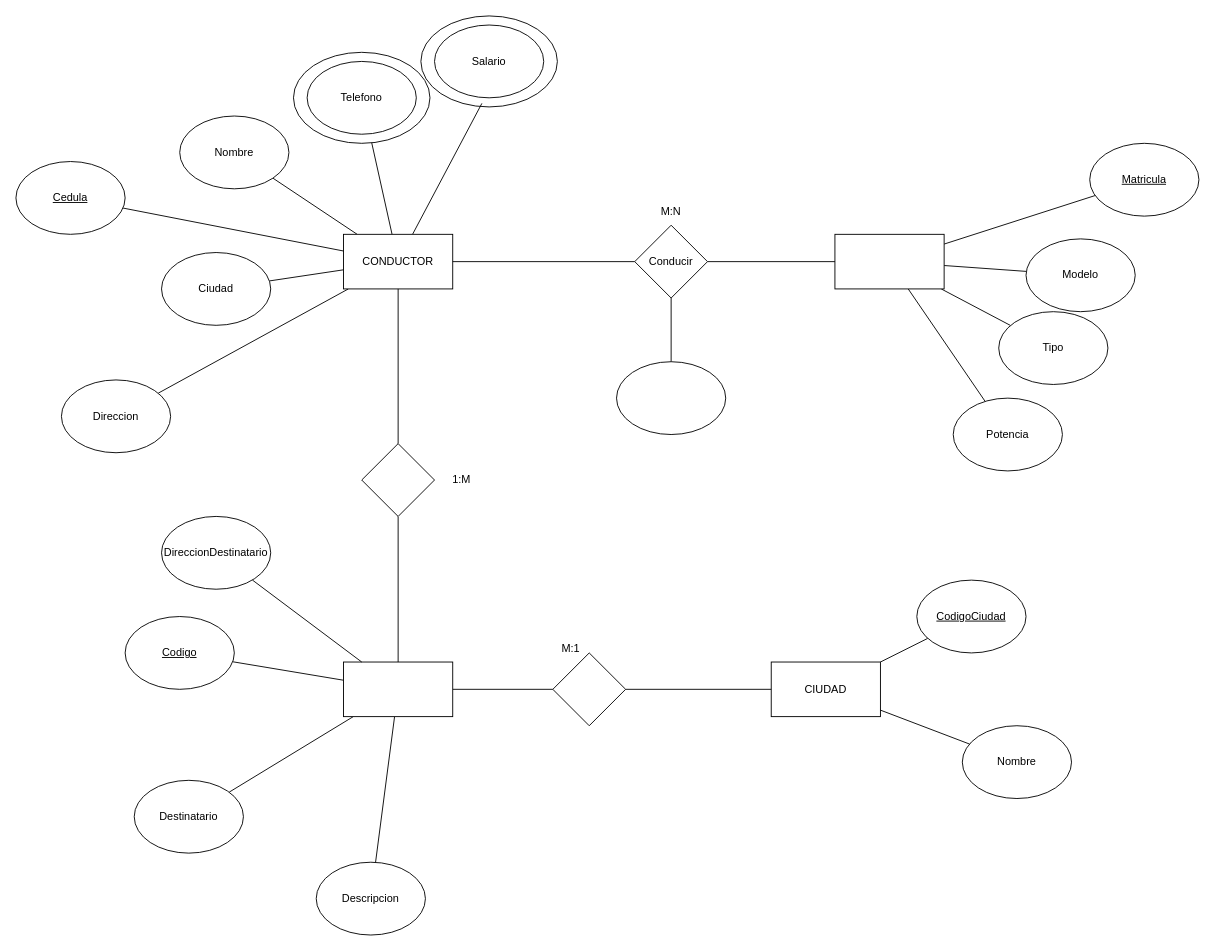
Image size: 1215x951. Some labels were removed from this diagram. The centre of each missing label's shape, as x and y in pixels:
CAMION: point 889,261
Distribuir: point 398,479
FechaConduccion: point 671,398
Llegar: point 589,689
PAQUETE: point 398,689
